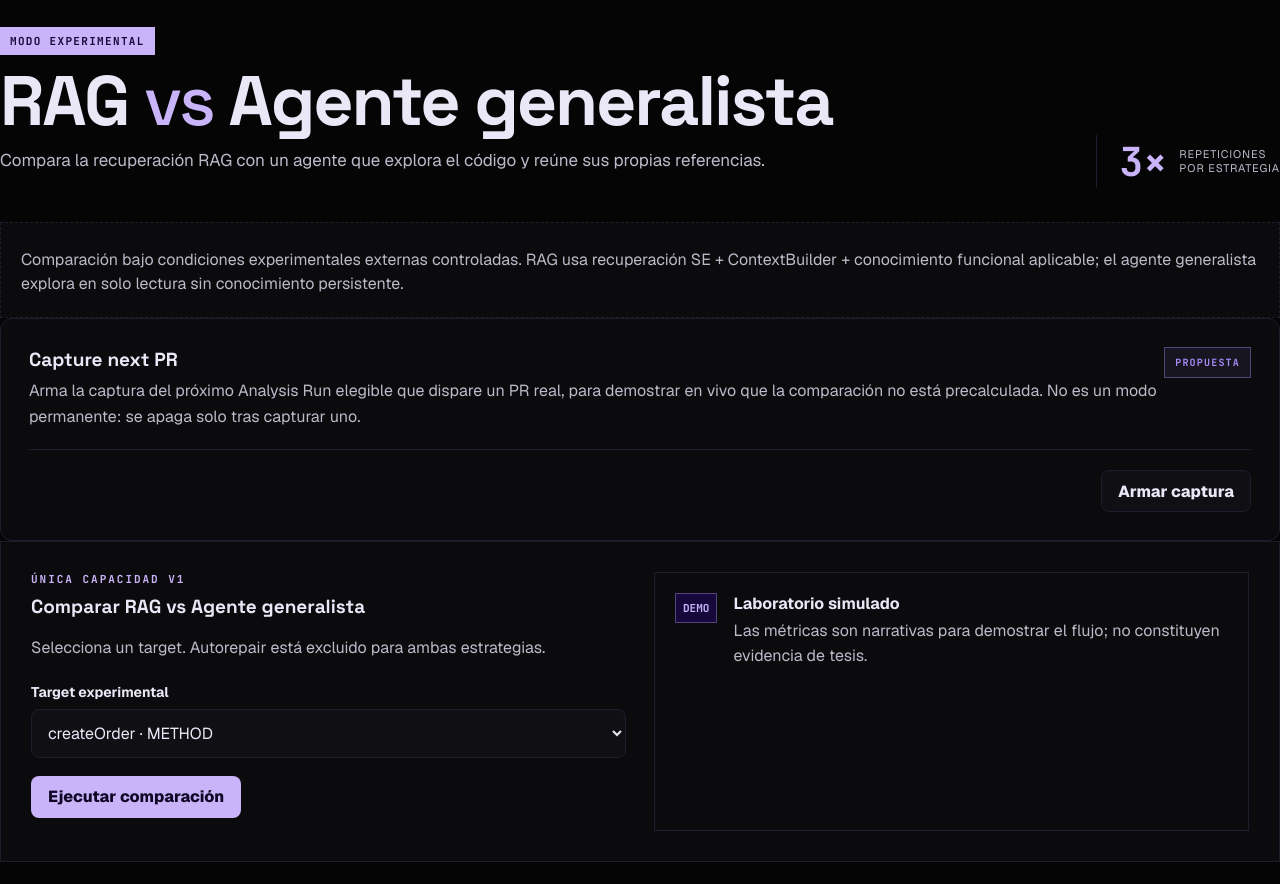
Test: FAILED con código demo-scenario-failed-experiment-failed muestra el mensaje propio o genérico con el código
Click the button "Ejecutar comparación" at (136,797), box [31,776,241,818]
(page scrolled)
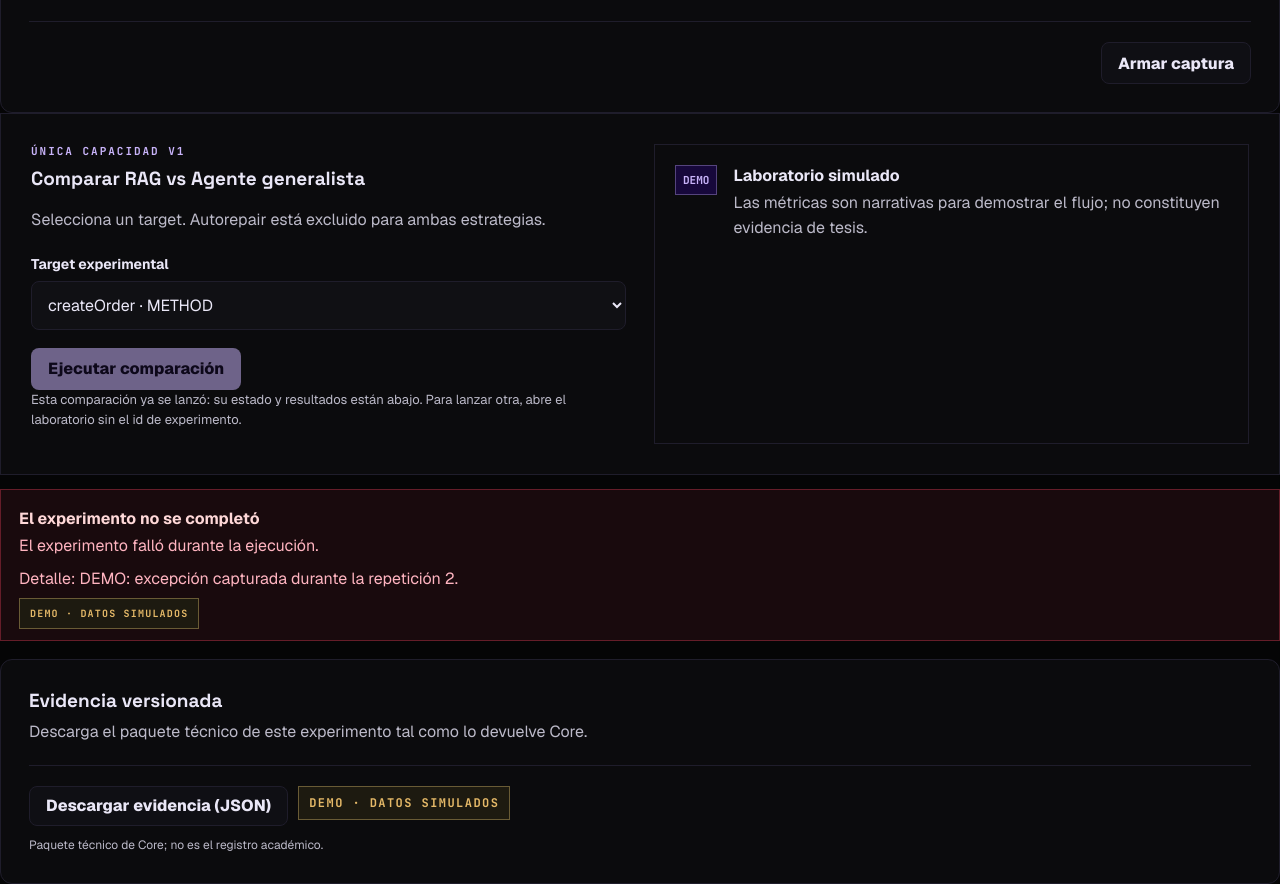
Now the text "El experimento falló durante la ejecución." is shown, box [19,535,318,556]
Now the text "Detalle: DEMO: excepción capturada durante la repetición 2." is shown, box [19,568,458,589]
